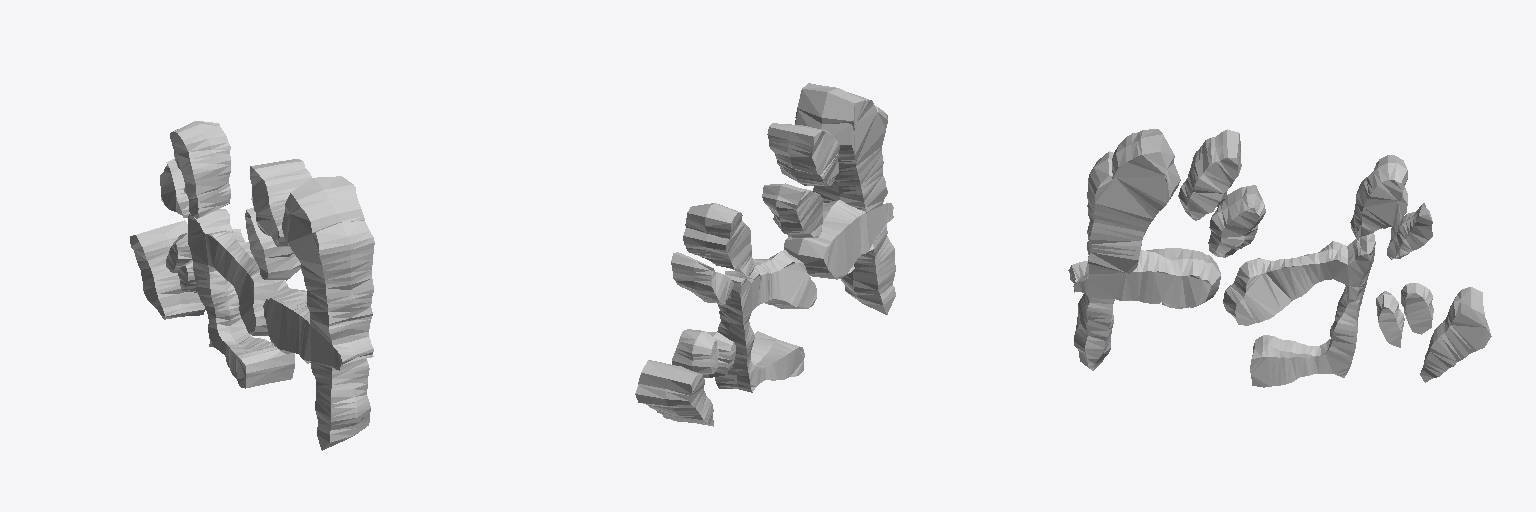
File: dogoxo.obj
The picture shows the model from 3 angles: view 1: azimuth 30°, elevation 25°; view 2: azimuth 150°, elevation 25°; view 3: azimuth 270°, elevation 25°; orthographic projection.
Visible parts, largest first — view 1: トレース; view 2: トレース; view 3: トレース.
Boxes of the visible parts, x1,y1,x2,y2 form: トレース: [130, 121, 374, 450]; トレース: [635, 83, 895, 426]; トレース: [1068, 129, 1491, 387].
Bounding box in the file's own units: 0.8119 × 3.22 × 5.09.